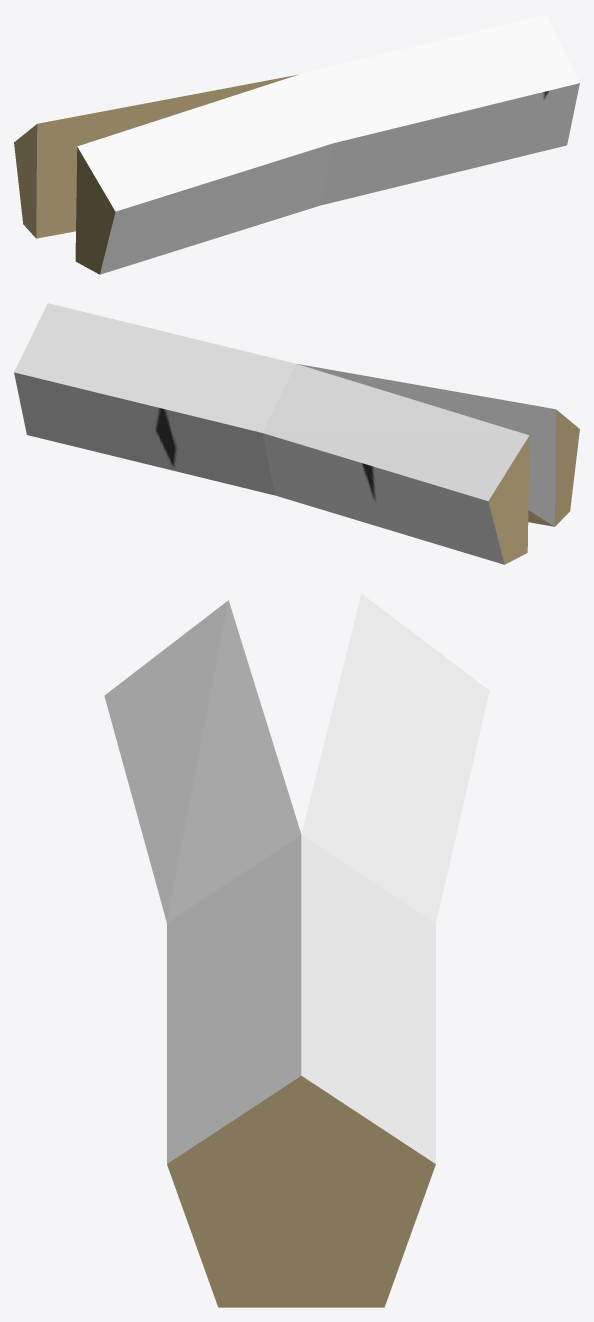
The model's file is Birch_Firewood_Snow_03_LOD.fbx.
The picture shows the model from 3 angles, top to bottom: view 1: azimuth 30°, elevation 25°; view 2: azimuth 150°, elevation 25°; view 3: azimuth 270°, elevation 25°; orthographic projection. The views are drawn at different scales.
Parts seen in each view (by area): view 1: Birch_Firewood_Snow_03_LOD0; view 2: Birch_Firewood_Snow_03_LOD0; view 3: Birch_Firewood_Snow_03_LOD0.
Part boxes in pixels (x1,y1,x2,y2): Birch_Firewood_Snow_03_LOD0: (14,14,579,274); Birch_Firewood_Snow_03_LOD0: (14,303,579,564); Birch_Firewood_Snow_03_LOD0: (104,593,489,1307).
Size of what is drawn, in the model's own units: 56 by 12.56 by 18.91.
